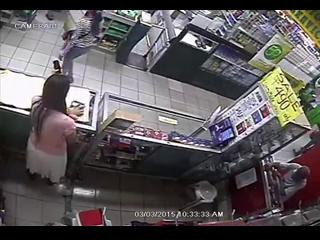Normal: (26, 73, 86, 190), (58, 11, 105, 84)
